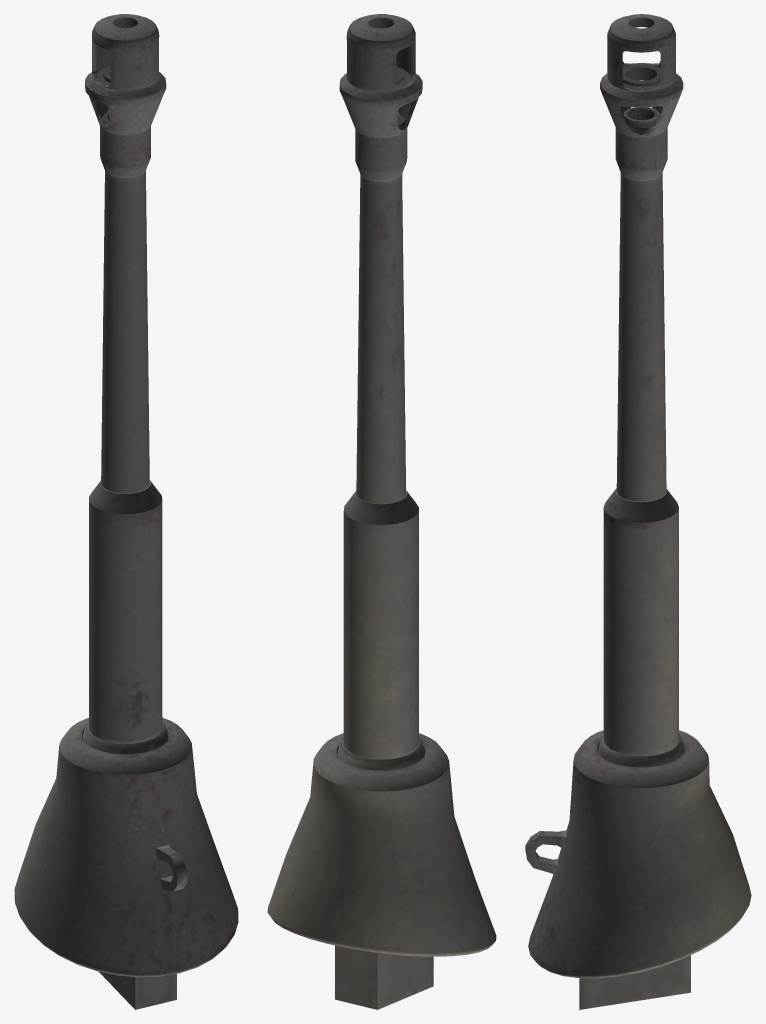
Rendered from Gun_03.glb.
The picture shows the model from 3 angles, left to right: view 1: azimuth 30°, elevation 25°; view 2: azimuth 150°, elevation 25°; view 3: azimuth 270°, elevation 25°; orthographic projection. The views are drawn at different scales.
Parts seen in each view (by area): view 1: set_0_group_0; view 2: set_0_group_0; view 3: set_0_group_0.
Boxes of the visible parts, left/top/right/bottom form: set_0_group_0: left=14, top=14, right=238, bottom=1009; set_0_group_0: left=267, top=14, right=496, bottom=1009; set_0_group_0: left=525, top=14, right=751, bottom=1009.
Size of the model in its own units: 0.6581 by 3.08 by 0.6461.
Materials: 1 (1 with a texture image).
